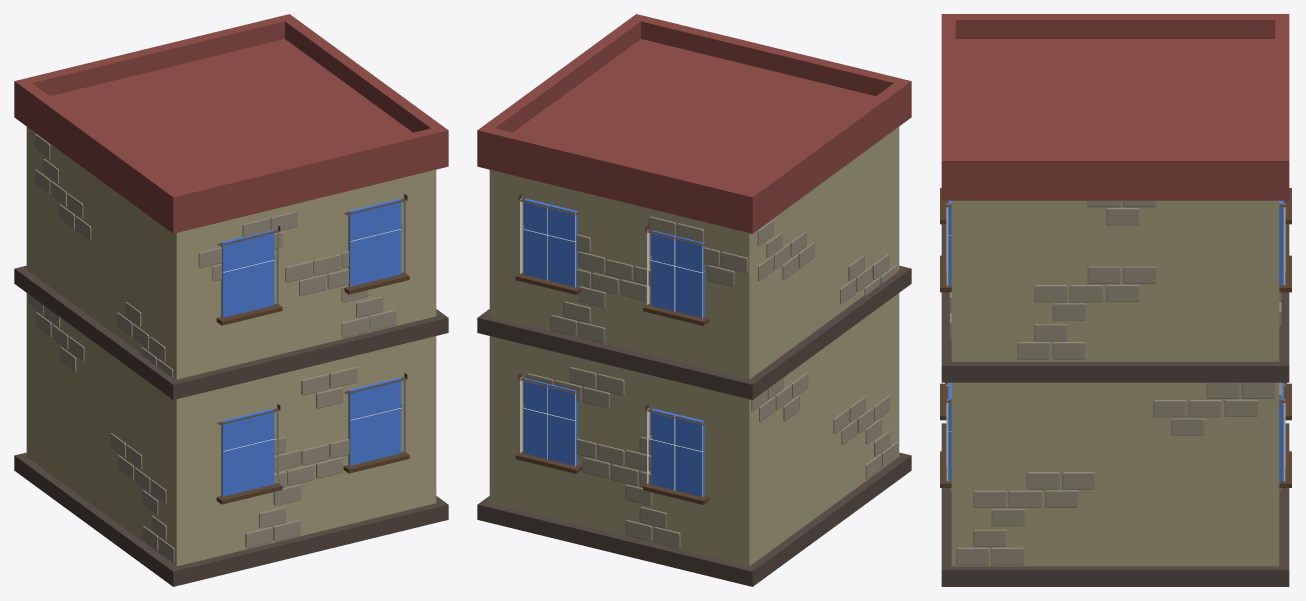
File: Row House by SoyMaria - YjxizbS1U8.glb
3 renders of one model, left to right at view 1: azimuth 30°, elevation 25°; view 2: azimuth 150°, elevation 25°; view 3: azimuth 270°, elevation 25°, orthographic. The views are drawn at different scales.
Visible parts, largest first — view 1: Cube, Cube.003, Cube.002, Cube.001, Cube.034, Cube.036, Cube.033, Cube.035, Cube.014, Cube.010, Cube.027, Cube.028 (+15 smaller); view 2: Cube, Cube.003, Cube.002, Cube.001, Cube.039, Cube.038, Cube.037, Cube.040, Cube.019, Cube.015, Cube.021, Cube.016 (+16 smaller); view 3: Cube, Cube.003, Cube.001, Cube.002, Cube.007, Cube.048, Cube.009, Cube.008, Cube.006, Cube.046, Cube.047, Cube.005 (+5 smaller).
Part boxes in pixels (left/top/right/bottom): Cube: left=26, top=127, right=436, bottom=566; Cube.003: left=14, top=14, right=448, bottom=233; Cube.002: left=14, top=452, right=448, bottom=586; Cube.001: left=14, top=265, right=448, bottom=399; Cube.034: left=343, top=373, right=409, bottom=473; Cube.036: left=344, top=194, right=409, bottom=294; Cube.033: left=216, top=404, right=282, bottom=504; Cube.035: left=216, top=225, right=282, bottom=325; Cube.014: left=301, top=367, right=356, bottom=408; Cube.010: left=245, top=507, right=300, bottom=548; Cube.027: left=341, top=296, right=396, bottom=337; Cube.028: left=285, top=254, right=340, bottom=295; Cube: left=489, top=127, right=899, bottom=566; Cube.003: left=477, top=14, right=911, bottom=233; Cube.002: left=477, top=452, right=911, bottom=586; Cube.001: left=477, top=265, right=911, bottom=399; Cube.039: left=515, top=194, right=581, bottom=294; Cube.038: left=643, top=404, right=709, bottom=504; Cube.037: left=515, top=373, right=582, bottom=473; Cube.040: left=643, top=225, right=709, bottom=325; Cube.019: left=569, top=367, right=624, bottom=408; Cube.015: left=625, top=507, right=680, bottom=548; Cube.021: left=550, top=301, right=605, bottom=343; Cube.016: left=576, top=439, right=624, bottom=478; Cube: left=951, top=200, right=1279, bottom=566; Cube.003: left=941, top=14, right=1289, bottom=200; Cube.001: left=941, top=224, right=1289, bottom=382; Cube.002: left=941, top=423, right=1289, bottom=586; Cube.007: left=956, top=529, right=1024, bottom=565; Cube.048: left=1034, top=285, right=1103, bottom=320; Cube.009: left=973, top=490, right=1042, bottom=526; Cube.008: left=1026, top=472, right=1095, bottom=507; Cube.006: left=1153, top=400, right=1221, bottom=435; Cube.046: left=1017, top=324, right=1085, bottom=359; Cube.047: left=1087, top=266, right=1156, bottom=301; Cube.005: left=1206, top=382, right=1275, bottom=416.
Bounding box in the file's own units: 2.12 × 2.87 × 2.15.
